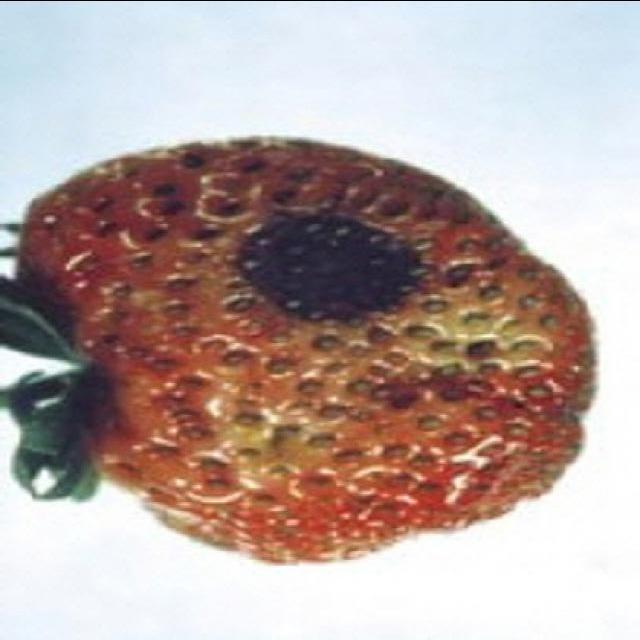Anthracnose Fruit Rot: (231, 205, 427, 329)
